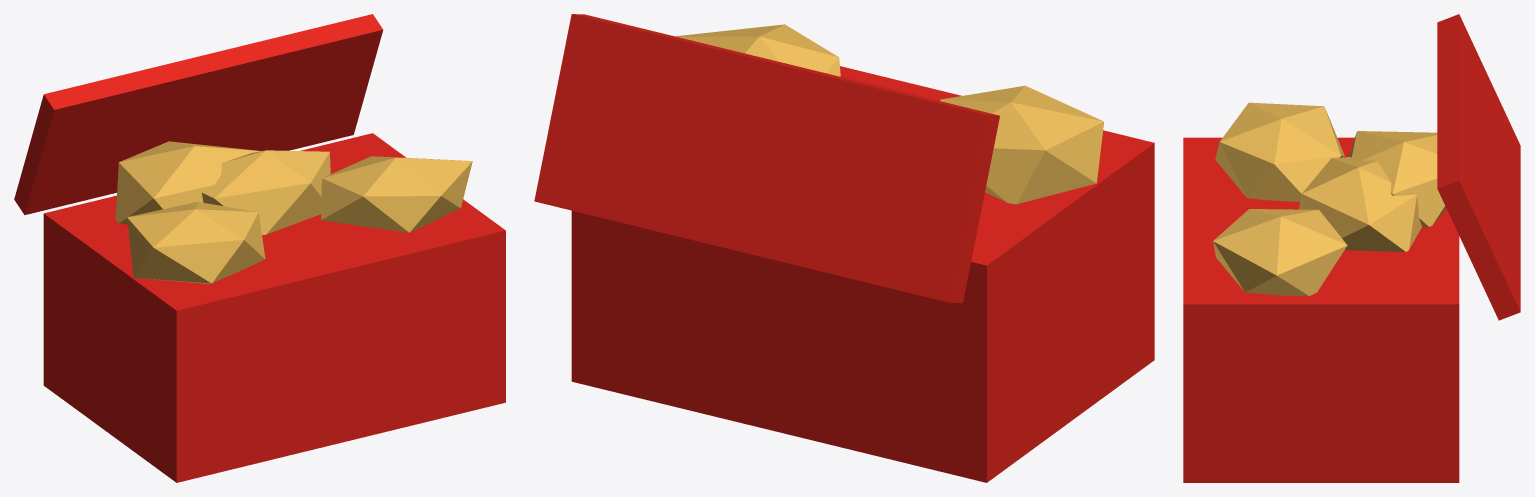
Rendered from nuggets.glb.
The picture shows the model from 3 angles, left to right: view 1: azimuth 30°, elevation 25°; view 2: azimuth 150°, elevation 25°; view 3: azimuth 270°, elevation 25°; orthographic projection. The views are drawn at different scales.
Parts seen in each view (by area): view 1: chicken_nuggets; view 2: chicken_nuggets; view 3: chicken_nuggets.
Part boxes in pixels (left/top/right/bottom): chicken_nuggets: left=14, top=14, right=505, bottom=482; chicken_nuggets: left=534, top=14, right=1154, bottom=482; chicken_nuggets: left=1183, top=14, right=1520, bottom=482.
Size of the model in its own units: 0.1037 by 0.0846 by 0.0856.
